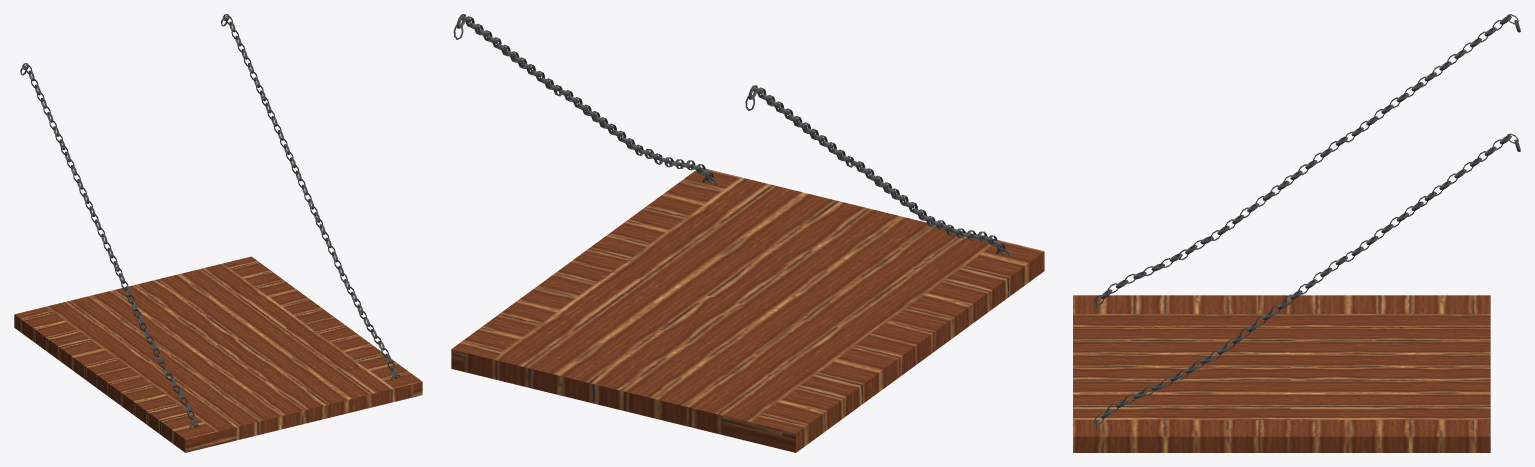
File: SM_DrawBridge.fbx
The picture shows the model from 3 angles, left to right: view 1: azimuth 30°, elevation 25°; view 2: azimuth 150°, elevation 25°; view 3: azimuth 270°, elevation 25°; orthographic projection. The views are drawn at different scales.
Visible parts, largest first — view 1: SM_DrawBridge_Bridge_01; view 2: SM_DrawBridge_Bridge_01; view 3: SM_DrawBridge_Bridge_01.
Boxes of the visible parts, left/top/right/bottom form: SM_DrawBridge_Bridge_01: left=14, top=14, right=422, bottom=452; SM_DrawBridge_Bridge_01: left=451, top=14, right=1044, bottom=452; SM_DrawBridge_Bridge_01: left=1073, top=14, right=1520, bottom=452.
Bounding box in the file's own units: 1061 × 1085 × 1422.
